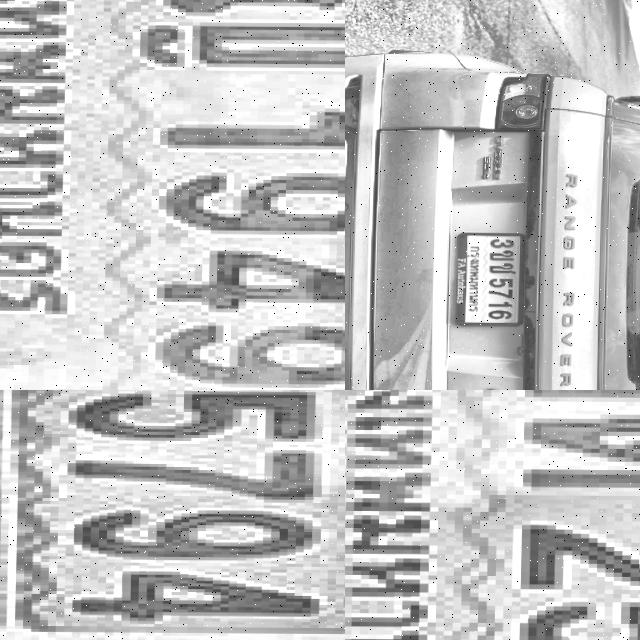license-plate: (0, 0, 345, 390), (0, 390, 345, 640), (345, 390, 640, 640), (453, 230, 529, 326)
